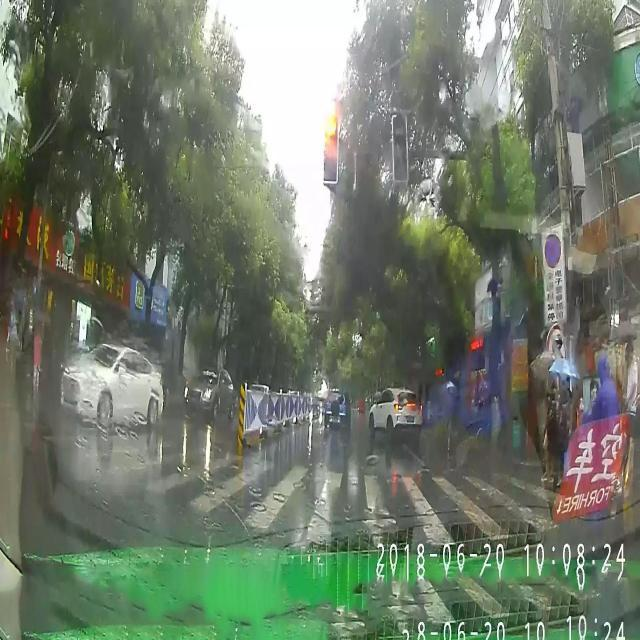car: (61, 342, 164, 422), (369, 386, 425, 439), (184, 367, 233, 422), (323, 391, 349, 432)
